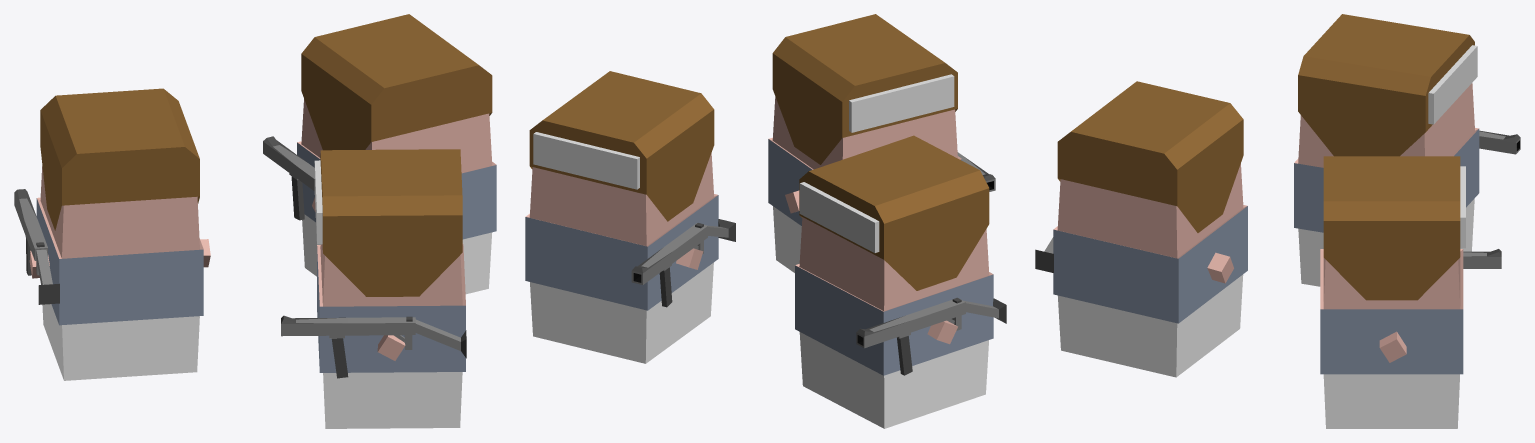
Rendered from presiaCommandos.gltf.
The picture shows the model from 3 angles, left to right: view 1: azimuth 30°, elevation 25°; view 2: azimuth 150°, elevation 25°; view 3: azimuth 270°, elevation 25°; orthographic projection. The views are drawn at different scales.
Parts seen in each view (by area): view 1: Cube.009, Cube.013, Cube.001, Cube.014, Cube.008, Cube, Cube.012, Cube.007, Cube.002, Cube.011; view 2: Cube, Cube.009, Cube.008, Cube.013, Cube.001, Cube.014, Cube.007, Cube.002, Cube.006; view 3: Cube.014, Cube, Cube.008, Cube.001, Cube.013, Cube.009, Cube.007, Cube.002, Cube.010, Cube.004, Cube.012.
Boxes of the visible parts, x1,y1,x2,y2 form: Cube.009: [36, 166, 203, 380]; Cube.013: [314, 149, 462, 296]; Cube.001: [301, 14, 492, 150]; Cube.014: [317, 244, 465, 428]; Cube.008: [40, 88, 199, 230]; Cube: [297, 99, 496, 294]; Cube.012: [281, 315, 466, 378]; Cube.007: [14, 189, 59, 304]; Cube.002: [263, 136, 314, 220]; Cube.011: [377, 335, 405, 360]; Cube: [525, 153, 718, 363]; Cube.009: [795, 217, 993, 428]; Cube.008: [799, 135, 989, 290]; Cube.013: [772, 14, 957, 164]; Cube.001: [529, 71, 714, 221]; Cube.014: [768, 97, 962, 272]; Cube.007: [856, 297, 1006, 375]; Cube.002: [631, 219, 735, 307]; Cube.006: [927, 320, 957, 344]; Cube.014: [1053, 163, 1247, 377]; Cube: [1320, 249, 1463, 428]; Cube.008: [1298, 14, 1477, 156]; Cube.001: [1323, 156, 1465, 300]; Cube.013: [1057, 81, 1243, 232]; Cube.009: [1294, 83, 1479, 286]; Cube.007: [1479, 130, 1520, 154]; Cube.002: [1463, 249, 1501, 268]; Cube.010: [1207, 252, 1233, 283]; Cube.004: [1379, 331, 1406, 362]; Cube.012: [1035, 237, 1053, 273].
Size of the model in its own units: 7.82 by 3.72 by 7.37.
